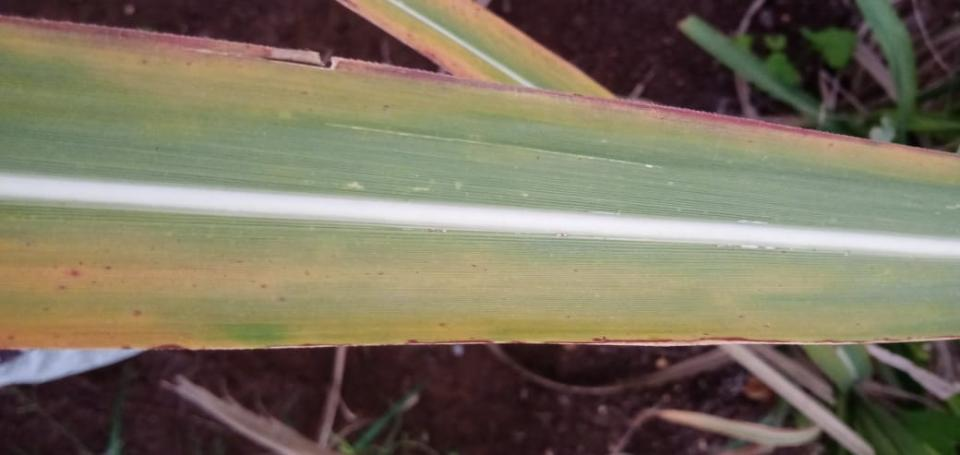Yellow: (0, 26, 959, 183), (0, 227, 931, 349), (412, 0, 616, 98), (339, 0, 521, 84)
